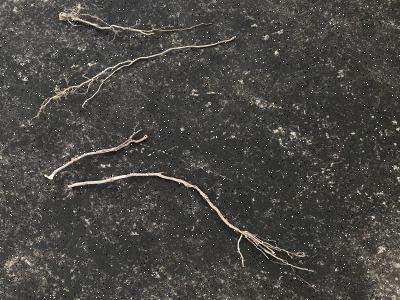Root: (67, 173, 278, 258), (35, 37, 235, 117), (44, 130, 148, 180), (59, 6, 212, 37)
